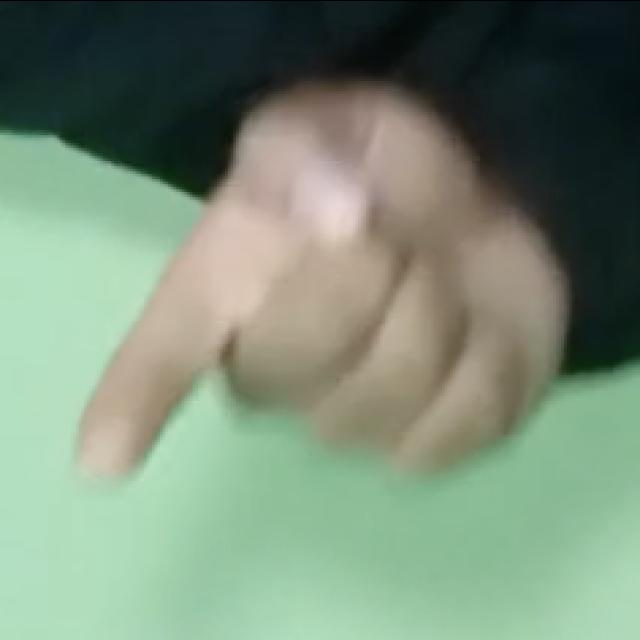Z: (58, 66, 561, 488)
